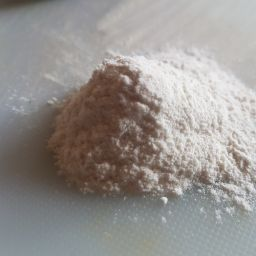Plain flour: (4, 75, 207, 209), (91, 55, 256, 216), (68, 44, 256, 184)
